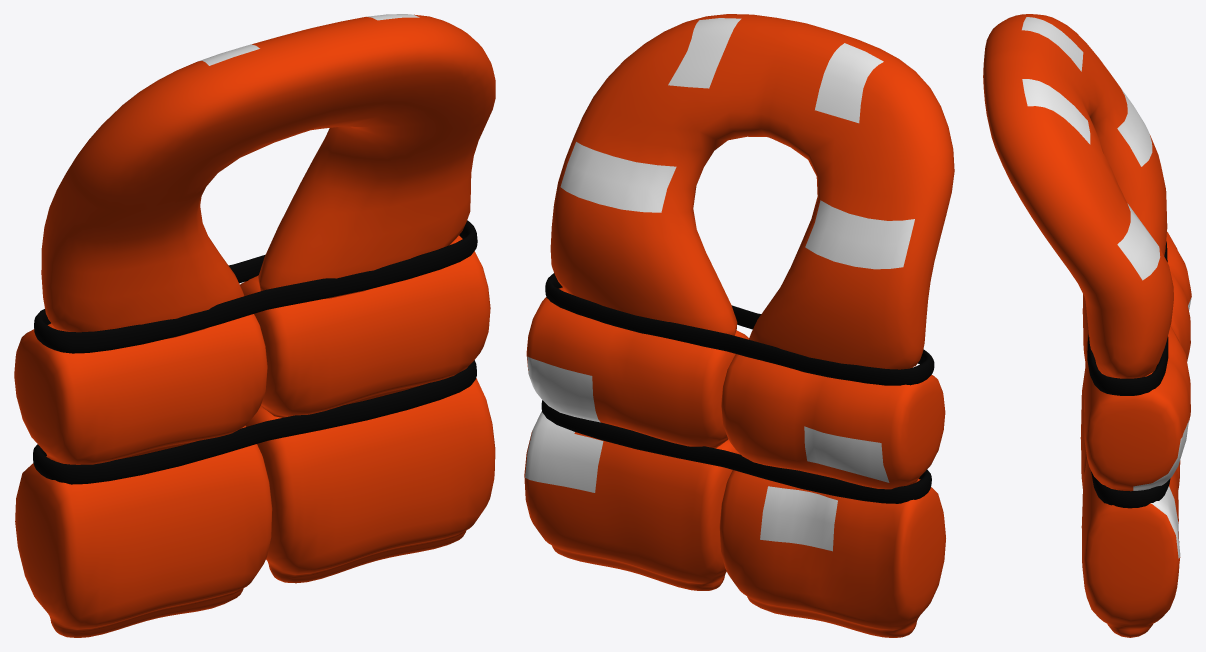
Rendered from goodjacket.fbx.
The picture shows the model from 3 angles, left to right: view 1: azimuth 30°, elevation 25°; view 2: azimuth 150°, elevation 25°; view 3: azimuth 270°, elevation 25°; orthographic projection. The views are drawn at different scales.
Visible parts, largest first — view 1: pCube8; view 2: pCube8; view 3: pCube8.
Part boxes in pixels (left/top/right/bottom): pCube8: left=14, top=14, right=495, bottom=637; pCube8: left=524, top=14, right=954, bottom=637; pCube8: left=983, top=14, right=1191, bottom=637.
Bounding box in the file's own units: 1.96 × 2.58 × 0.9589.
